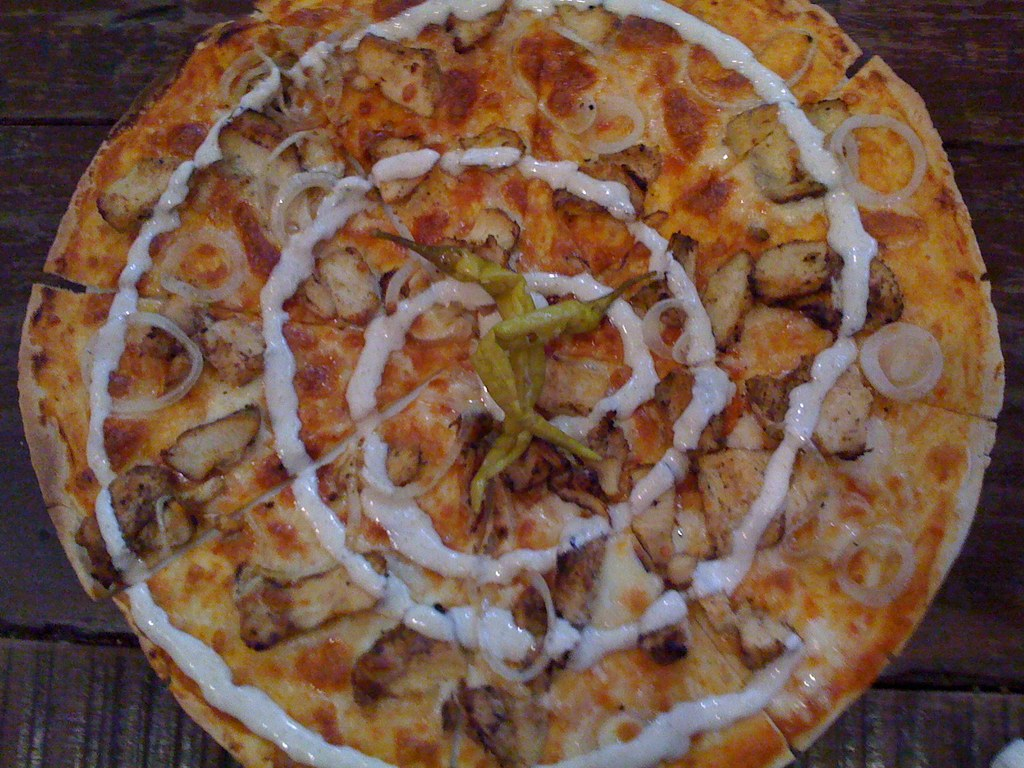Pizza: (19, 0, 1024, 757)
